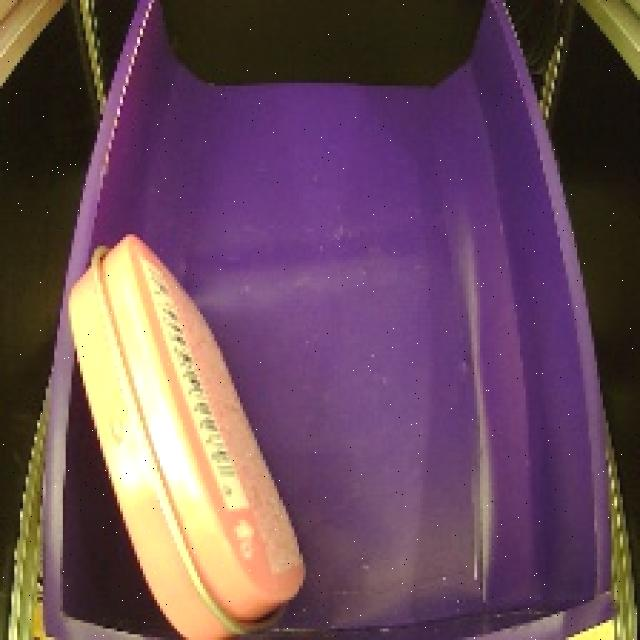metal: (49, 222, 319, 640)
